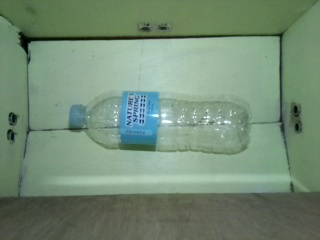bottle: (68, 89, 251, 156)
